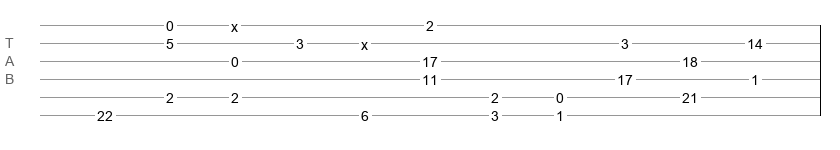0: (166, 18, 174, 28), (231, 54, 239, 64), (556, 90, 564, 100)
1: (556, 108, 564, 118), (751, 72, 759, 82)
11: (422, 72, 438, 82)
14: (747, 36, 763, 46)
17: (422, 54, 438, 64), (617, 72, 633, 82)
18: (682, 54, 698, 64)
2: (166, 90, 174, 100), (231, 90, 239, 100), (426, 18, 434, 28), (491, 90, 499, 100)
21: (682, 90, 698, 100)
22: (97, 108, 113, 118)
3: (296, 36, 304, 46), (491, 108, 499, 118), (621, 36, 629, 46)
5: (166, 36, 174, 46)
6: (361, 108, 369, 118)
x: (231, 19, 238, 27), (361, 37, 368, 45)
